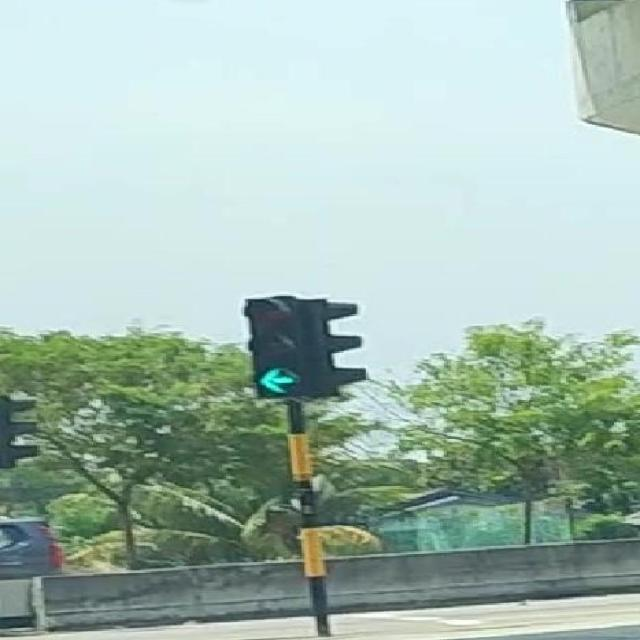green_light: (246, 294, 306, 398)
